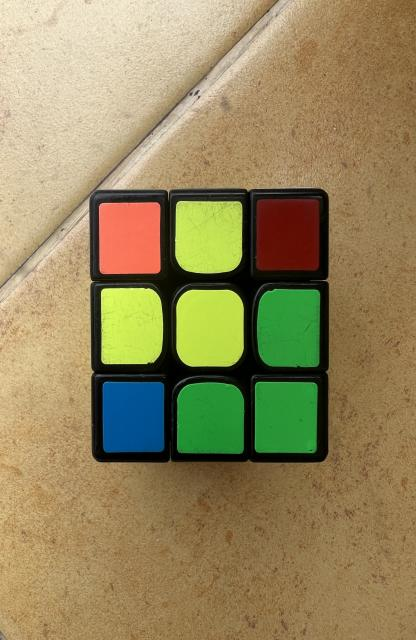Blue: (103, 381, 165, 452)
Green: (257, 289, 321, 368), (177, 382, 244, 454), (255, 381, 317, 454)
Orange: (99, 202, 160, 274)
Red: (257, 199, 320, 271)
Yellow: (177, 290, 244, 366), (176, 201, 243, 274), (101, 288, 164, 364)
